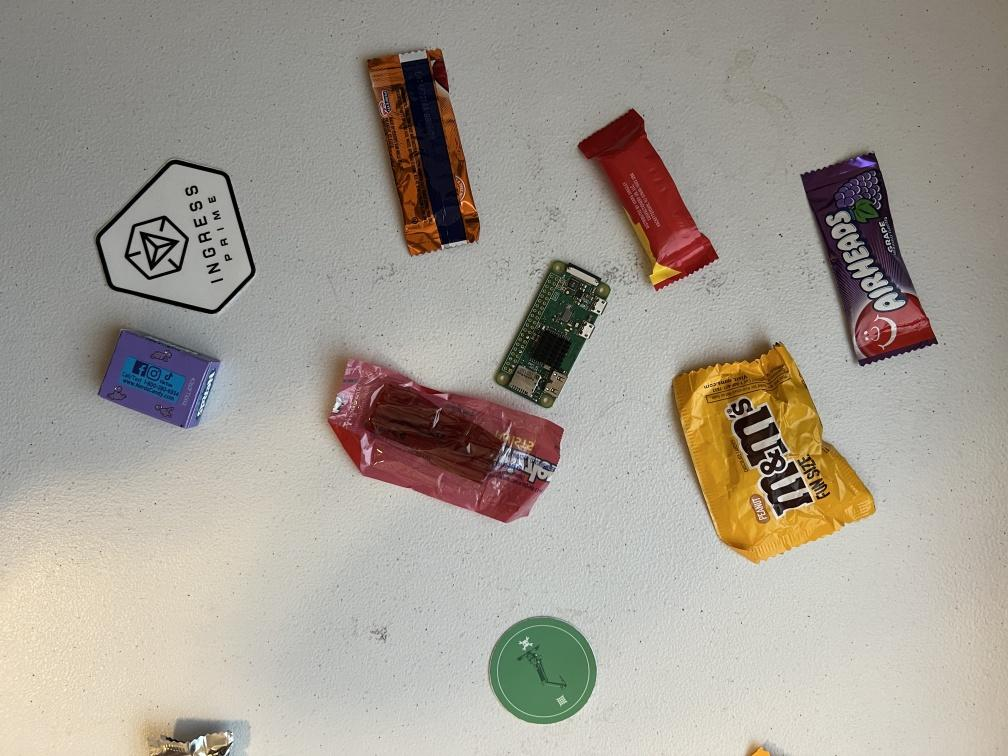MM_yellow: (680, 345, 879, 563)
airheads: (792, 155, 935, 365), (367, 49, 480, 255)
nerds: (94, 325, 226, 432)
starburst: (587, 111, 714, 290)
twizzlers: (327, 359, 559, 520)
